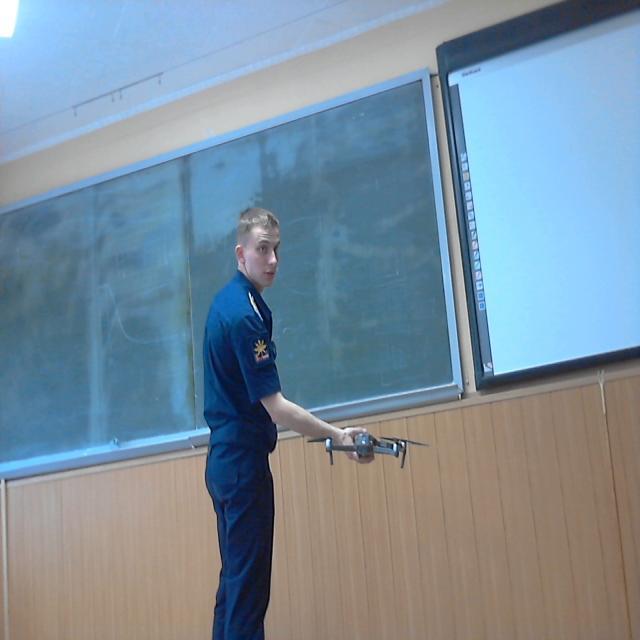drone: (300, 416, 440, 484)
